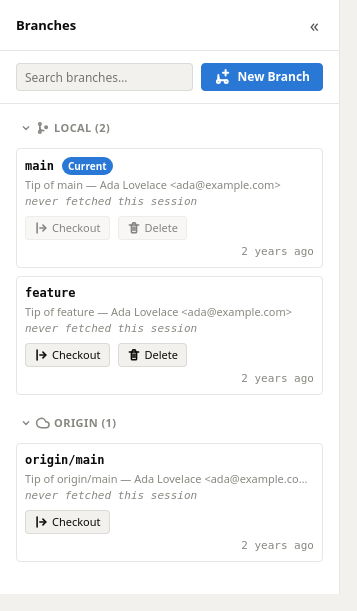
Test: BranchesPanel card drag-to-merge › the current branch's card can be dragged as the source
Expected: the text "Local (2)" is shown, top-left (54, 120), bottom-right (110, 136)
Press the mouse on the list item that starts with "main" at {"x": 170, "y": 208}, box top-left (16, 148), bottom-right (323, 268)
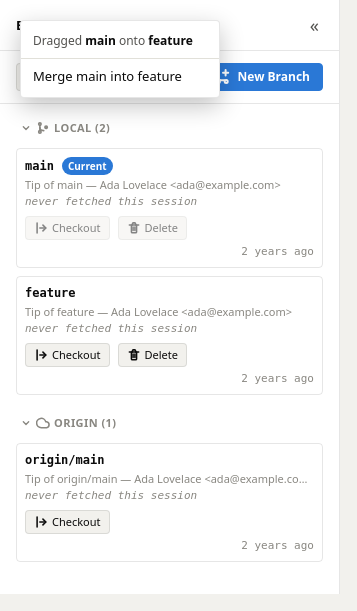
Now the menu item "Merge main into feature" is shown, box top-left (21, 59), bottom-right (219, 93)
